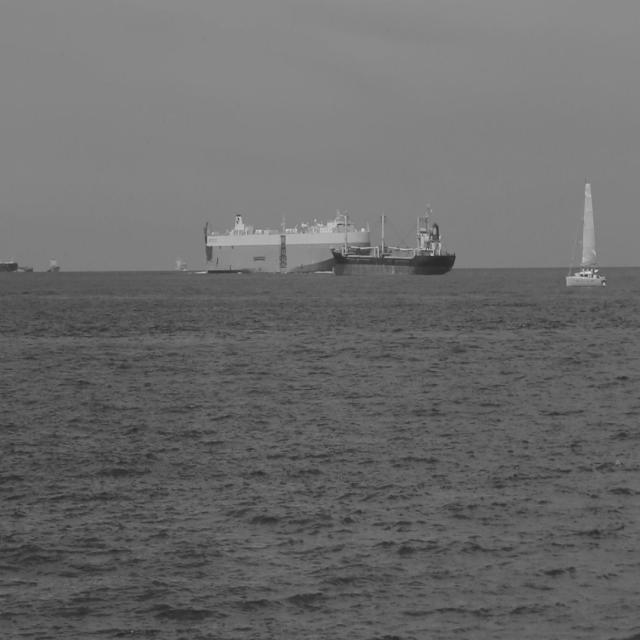ship: (201, 208, 371, 274), (328, 200, 458, 278), (564, 178, 608, 288), (0, 256, 19, 274), (46, 252, 60, 274), (16, 263, 34, 274)
